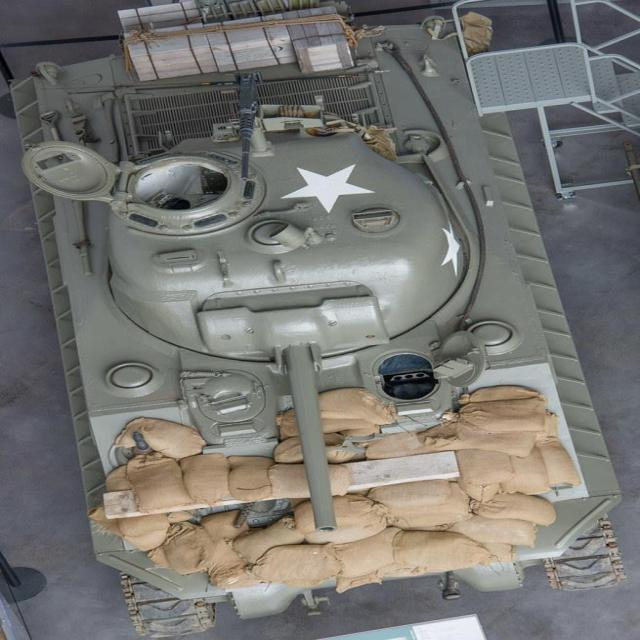Tanks: (10, 8, 608, 583)
